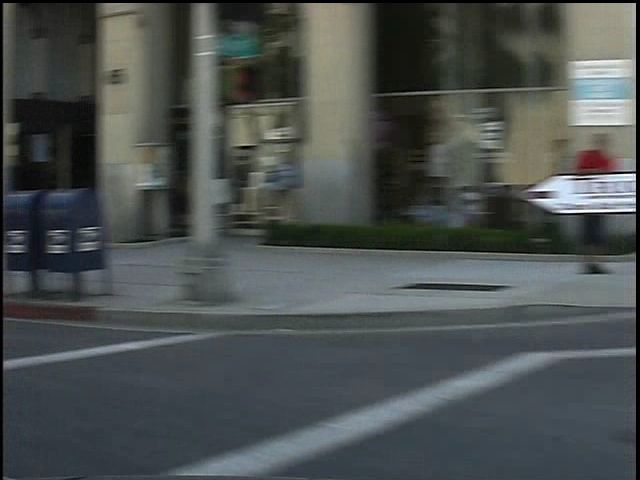person: (552, 122, 596, 282)
